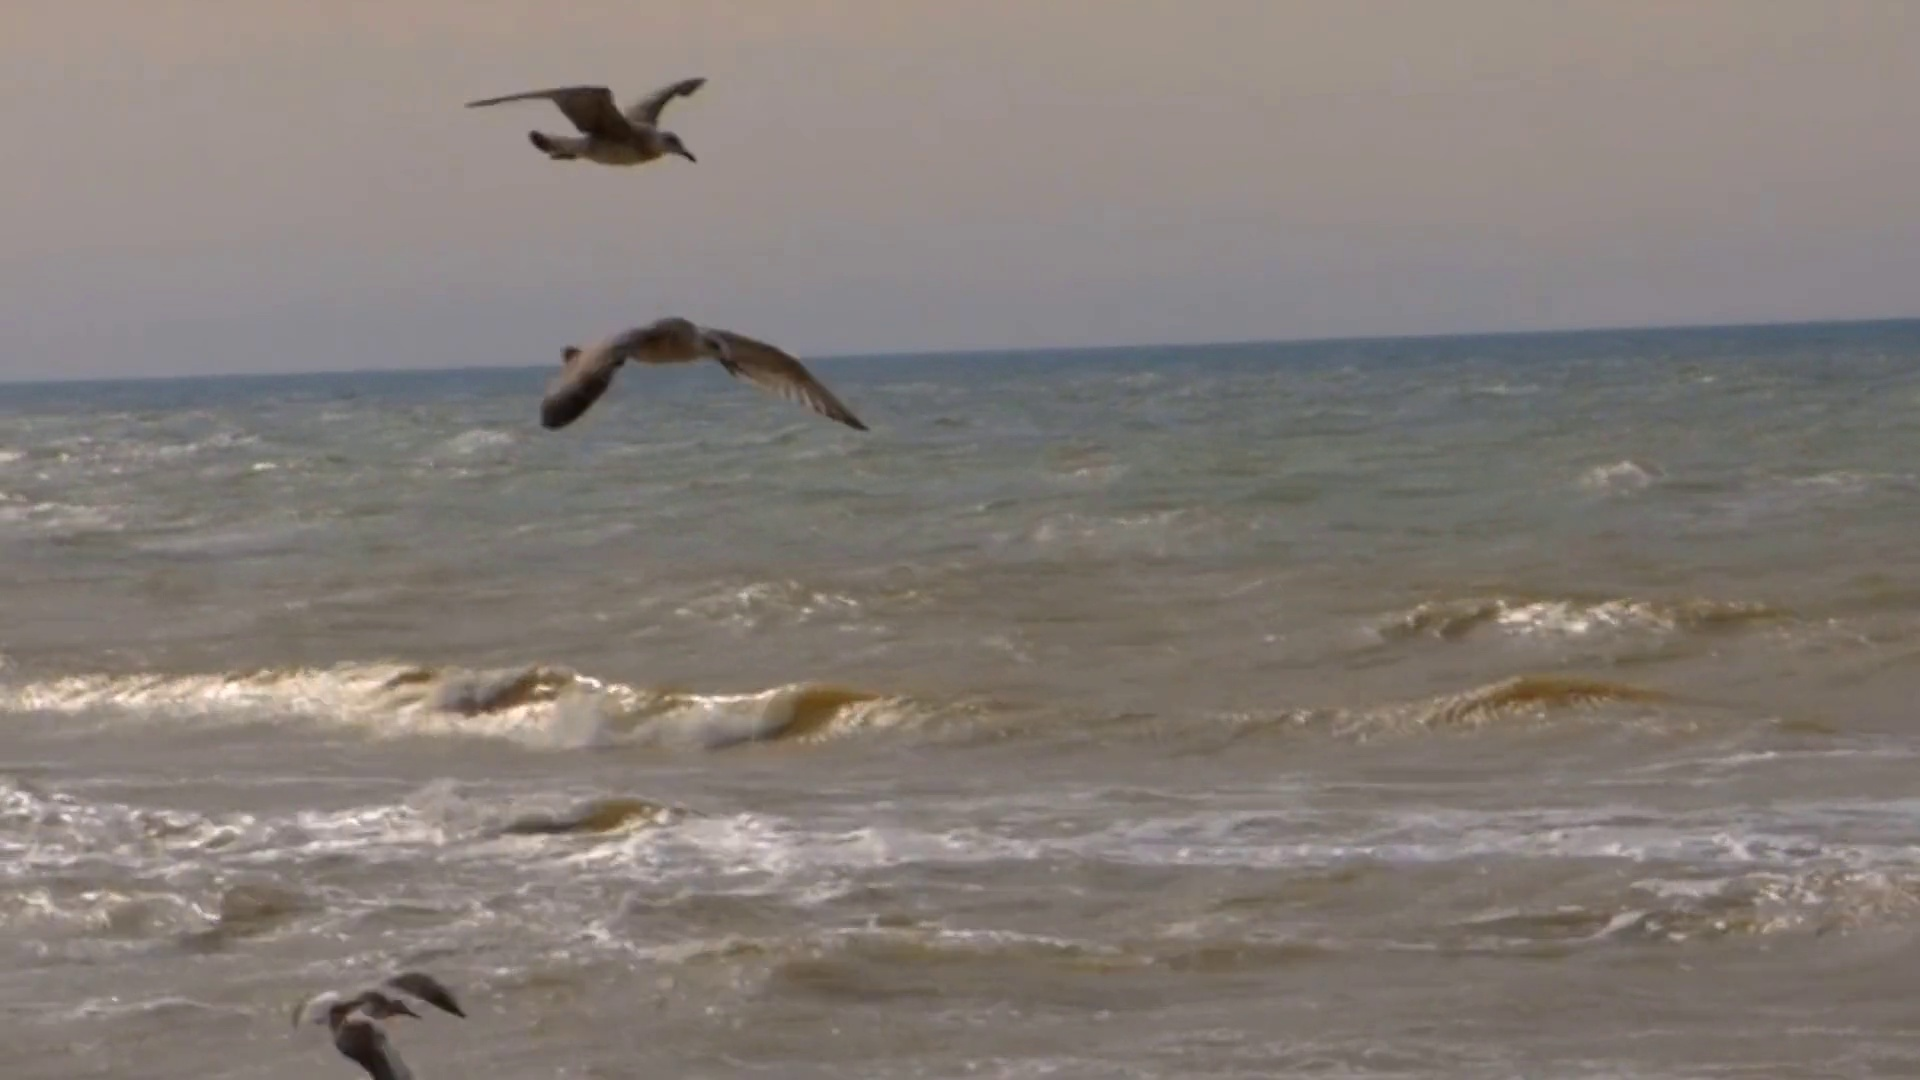bird: (531, 316, 873, 433), (464, 76, 705, 170), (284, 968, 469, 1080)
